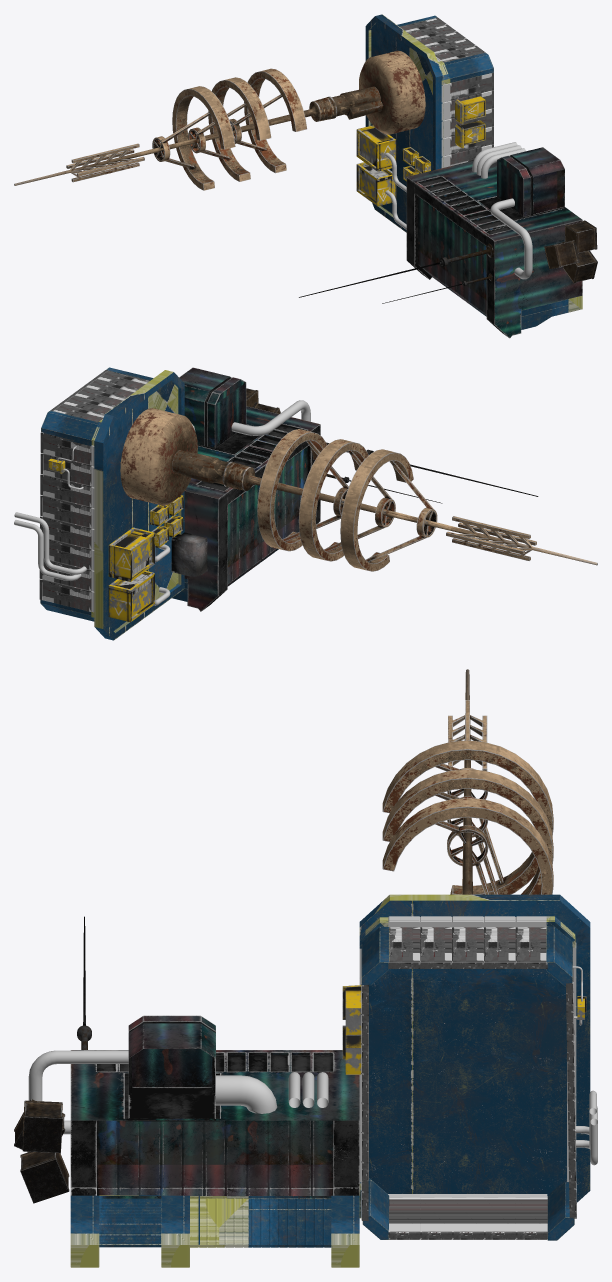
Rendered from Radiostation_Klein.fbx.
3 renders of one model, top to bottom at view 1: azimuth 30°, elevation 25°; view 2: azimuth 150°, elevation 25°; view 3: azimuth 270°, elevation 25°, orthographic. The views are drawn at different scales.
Parts seen in each view (by area): view 1: MainBuilding, AntennaPart, Roof, electricCable.001, RooftopPipes, WallBottom.003, WallBottom, ElectricBox, Column.002, CornerBottom.002, antenna.001, WallTop.003 (+4 smaller); view 2: AntennaPart, MainBuilding, Roof, WallBottom.001, electricCable.001, RooftopPipes, WallBottom, antenna.001, CornerBottom.001, electricCable.006, WallTop.001, CornerBottom; view 3: Roof, MainBuilding, AntennaPart, SmallDoor, WallBottom.002, WallBottom, RooftopPipes, Column.002, Column.001, Column.003, Box.002, Box.001 (+8 smaller).
Part boxes in pixels (x1=…): MainBuilding: x1=406, y1=147, x2=582, y2=338; AntennaPart: x1=14, y1=50, x2=425, y2=190; Roof: x1=365, y1=14, x2=443, y2=232; electricCable.001: x1=356, y1=125, x2=396, y2=206; RooftopPipes: x1=385, y1=142, x2=532, y2=279; WallBottom.003: x1=450, y1=72, x2=493, y2=165; WallBottom: x1=400, y1=17, x2=485, y2=62; ElectricBox: x1=455, y1=96, x2=485, y2=148; Column.002: x1=521, y1=295, x2=582, y2=329; CornerBottom.002: x1=444, y1=52, x2=493, y2=82; antenna.001: x1=299, y1=243, x2=493, y2=303; WallTop.003: x1=441, y1=83, x2=450, y2=167; AntennaPart: x1=120, y1=408, x2=597, y2=571; MainBuilding: x1=179, y1=367, x2=320, y2=611; Roof: x1=94, y1=370, x2=184, y2=640; WallBottom.001: x1=39, y1=432, x2=91, y2=611; electricCable.001: x1=108, y1=527, x2=154, y2=622; RooftopPipes: x1=14, y1=400, x2=310, y2=605; WallBottom: x1=50, y1=370, x2=149, y2=422; antenna.001: x1=171, y1=442, x2=538, y2=576; CornerBottom.001: x1=41, y1=410, x2=98, y2=446; electricCable.006: x1=149, y1=495, x2=183, y2=547; WallTop.001: x1=91, y1=445, x2=94, y2=612; CornerBottom: x1=40, y1=600, x2=94, y2=621; Roof: x1=359, y1=894, x2=590, y2=1218; MainBuilding: x1=70, y1=1015, x2=359, y2=1198; AntennaPart: x1=382, y1=669, x2=553, y2=894; SmallDoor: x1=99, y1=1195, x2=331, y2=1247; WallBottom.002: x1=388, y1=1197, x2=547, y2=1239; WallBottom: x1=388, y1=927, x2=547, y2=968; RooftopPipes: x1=28, y1=966, x2=597, y2=1165; Column.002: x1=70, y1=1195, x2=99, y2=1267; Column.001: x1=161, y1=1195, x2=189, y2=1267; Column.003: x1=331, y1=1195, x2=359, y2=1267; Box.002: x1=22, y1=1100, x2=62, y2=1153; Box.001: x1=20, y1=1151, x2=69, y2=1203.
Bounding box in the file's own units: 4096 × 2669 × 6155.
